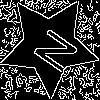N: (24, 20, 80, 76)
